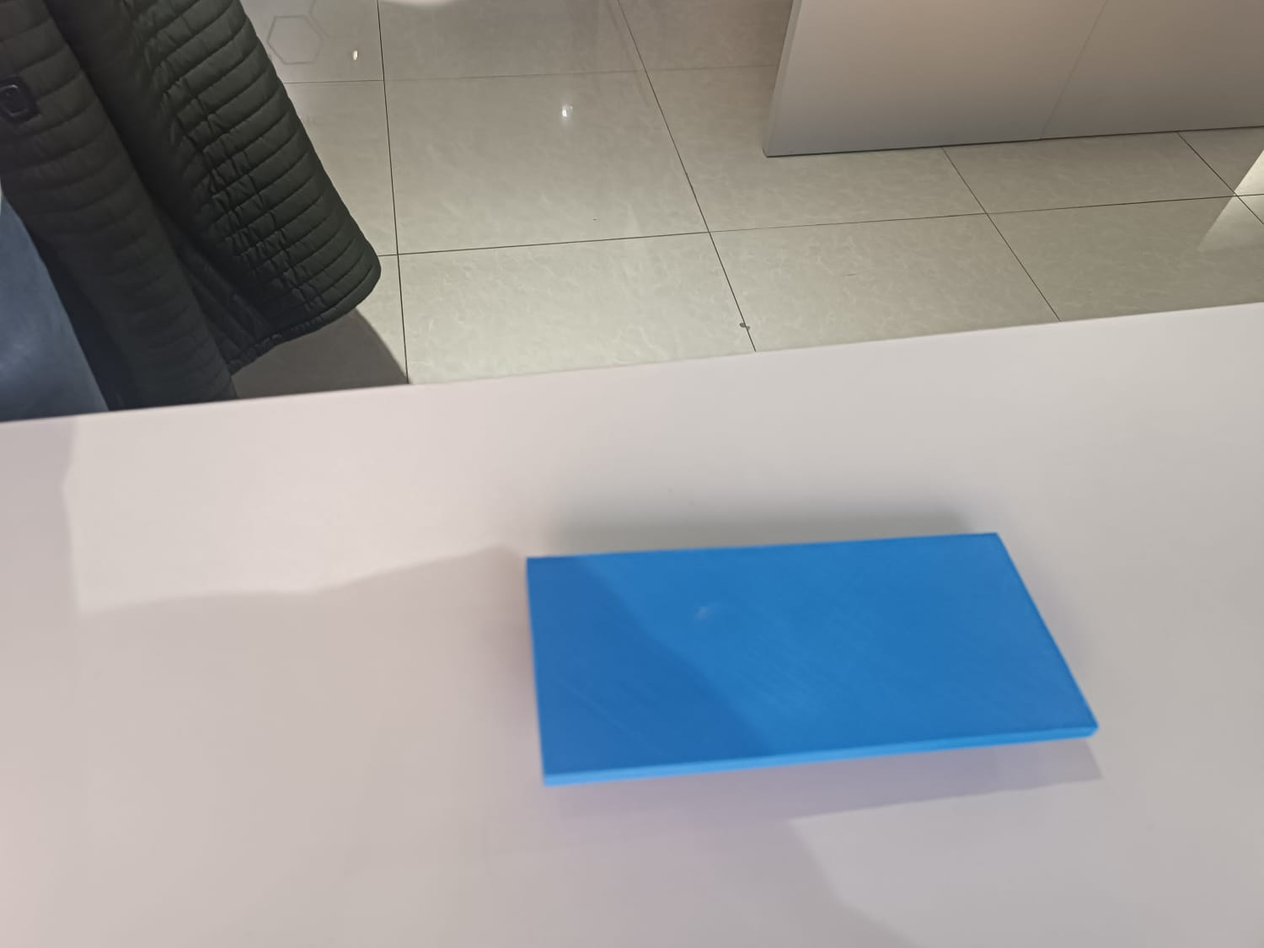Rectangular: (505, 523, 1109, 797)
